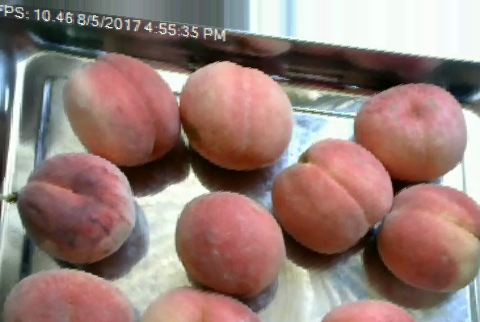Peach: (273, 141, 393, 255), (62, 53, 179, 167), (179, 61, 294, 170), (19, 153, 135, 261), (353, 81, 467, 184), (175, 192, 287, 294), (376, 184, 480, 291)
